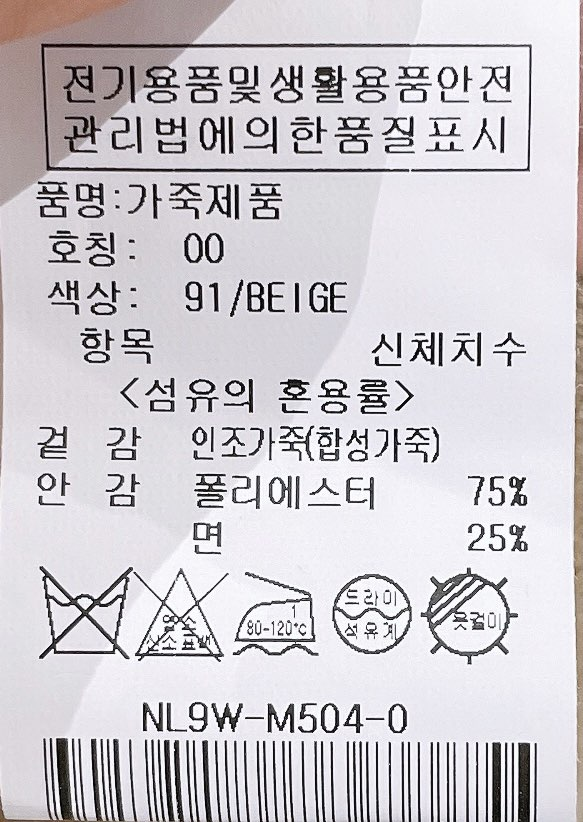KR_dry_clean_petroleum: (330, 564, 419, 657)
KR_hang_dry_in_shade: (419, 565, 519, 671)
KR_iron_low_temp_with_cloth: (225, 567, 322, 662)
KR_no_bleach: (132, 562, 230, 668)
KR_no_wash: (34, 554, 135, 665)
